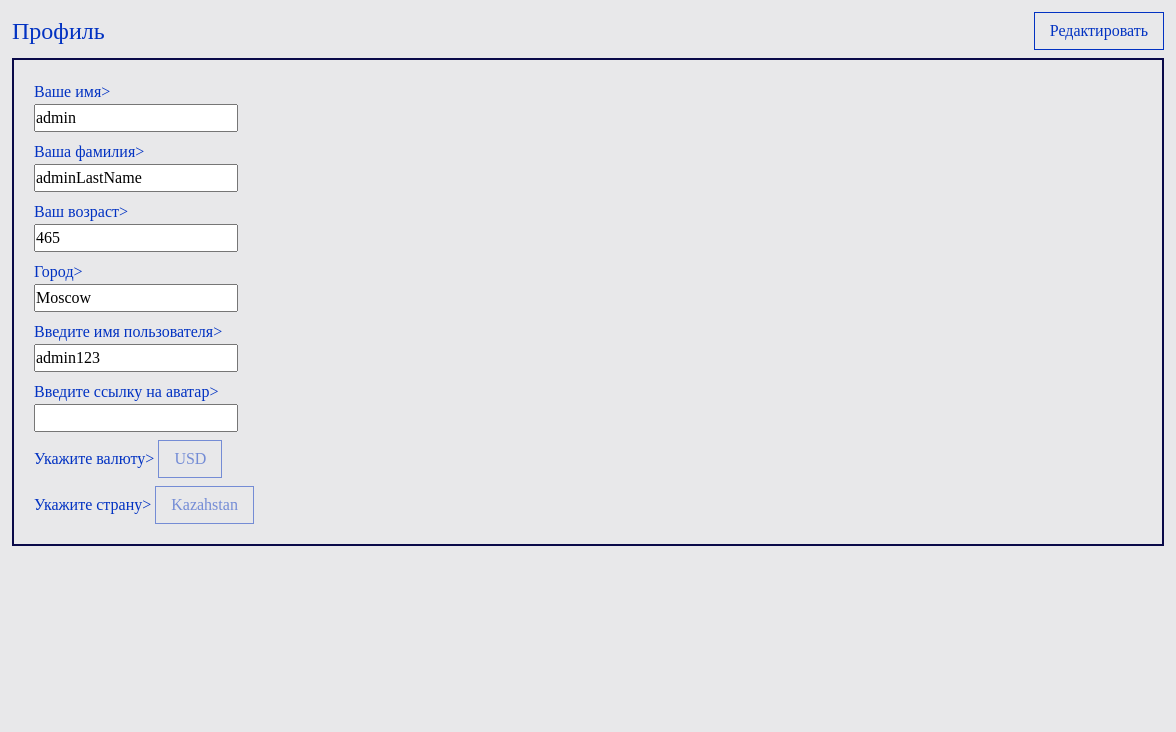
features/EditableProfileCard › При отмене значения должны обнулятся
Click the button with test id "EditableProfileCardHeader.EditButton": (1099, 31) [1034, 12, 1164, 50]
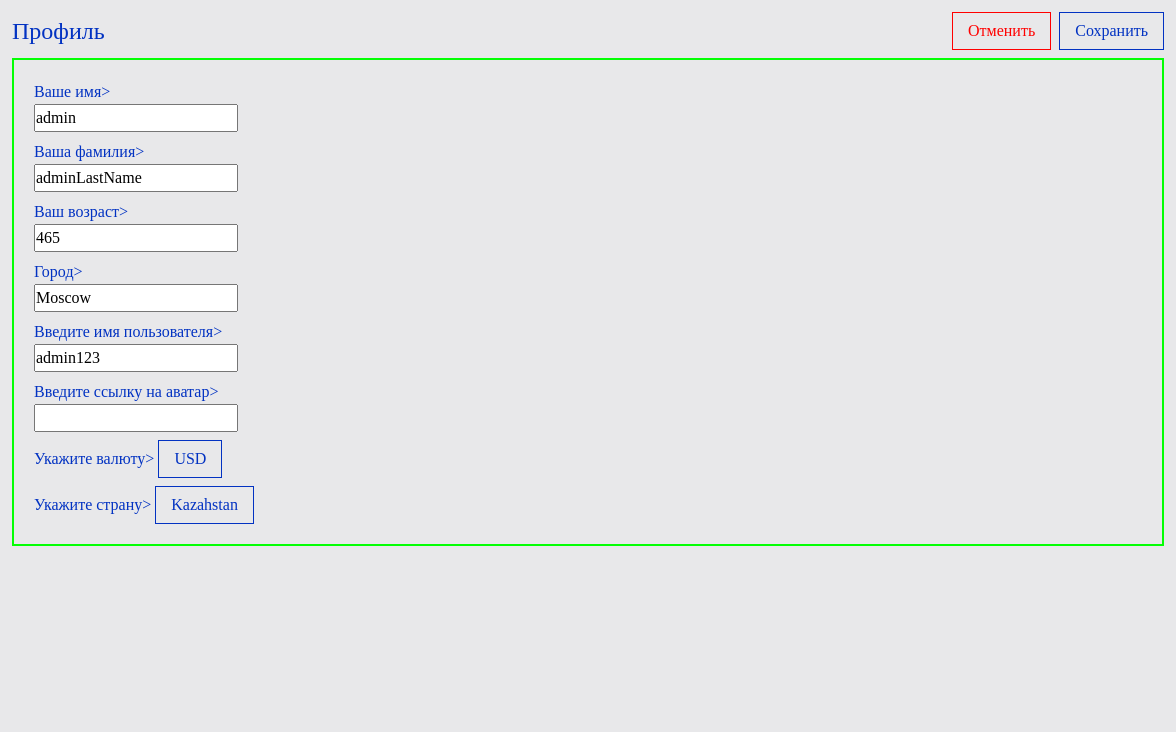
# очищаем поле
Clear the field with test id "ProfileCard.firstName": (136, 118) [34, 104, 238, 132]
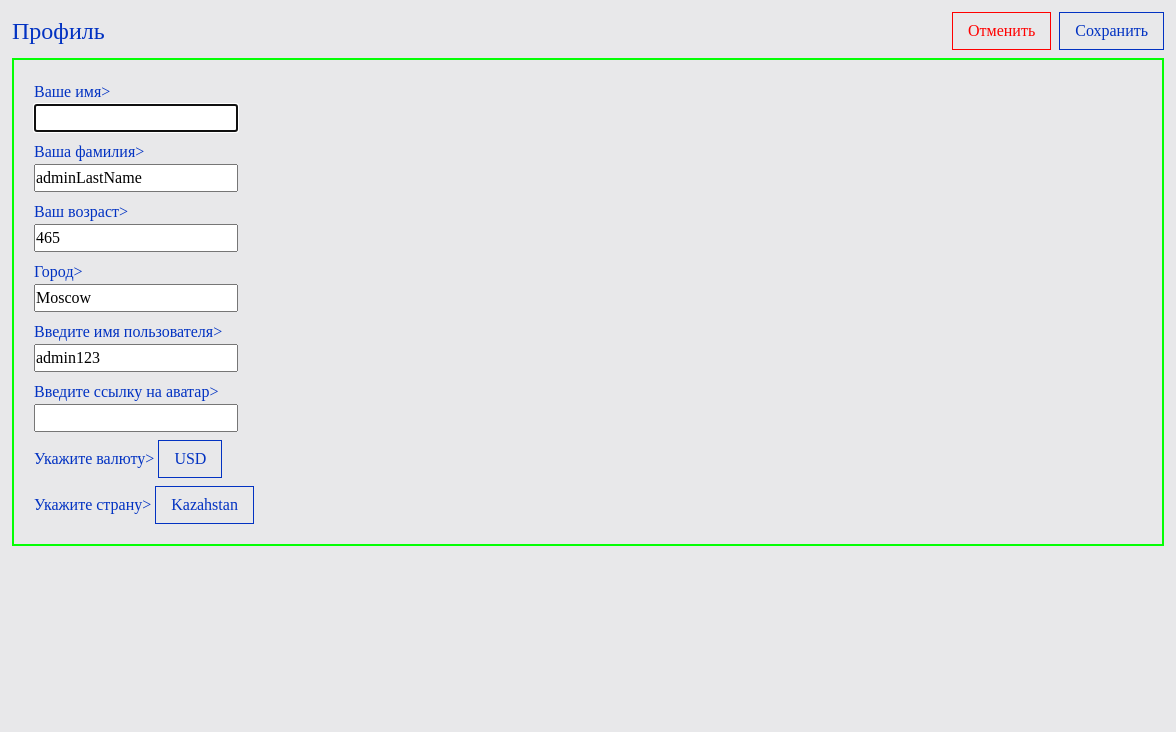
# записываем в поле
In the field with test id "ProfileCard.firstName": (136, 118) [34, 104, 238, 132], type "user"
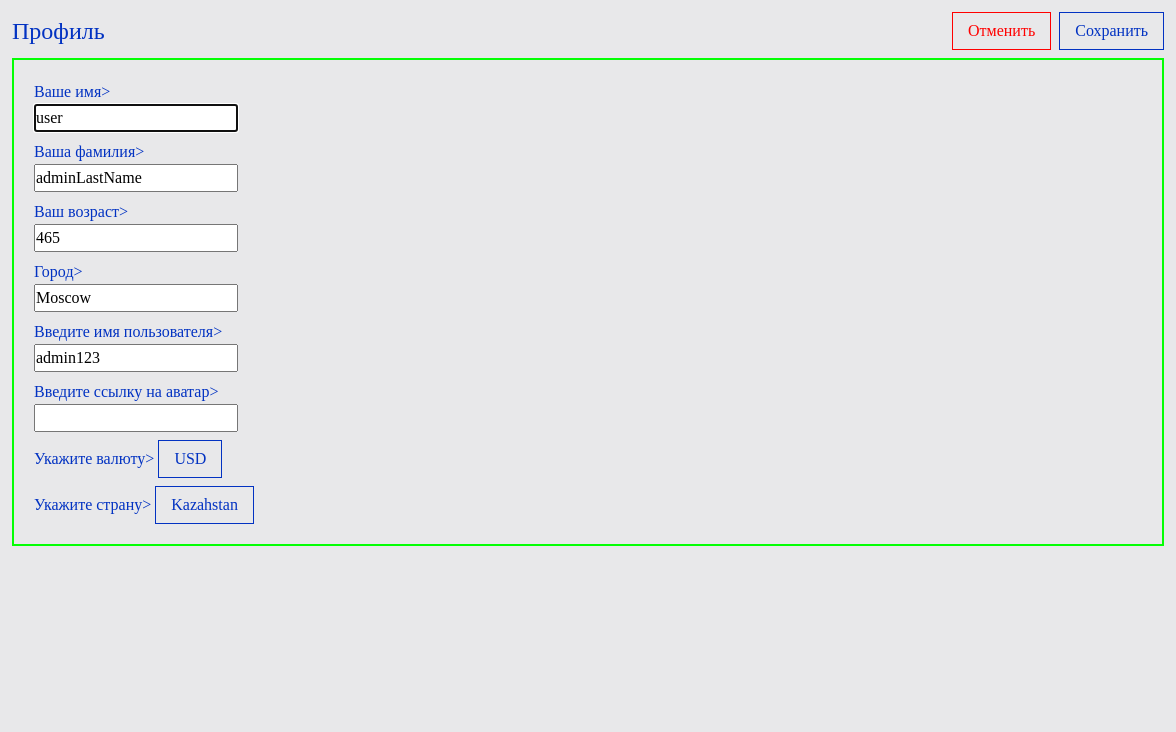
# кликаем Отменить
Click the button with test id "EditableProfileCardHeader.CancelButton": (1002, 31) [952, 12, 1051, 50]
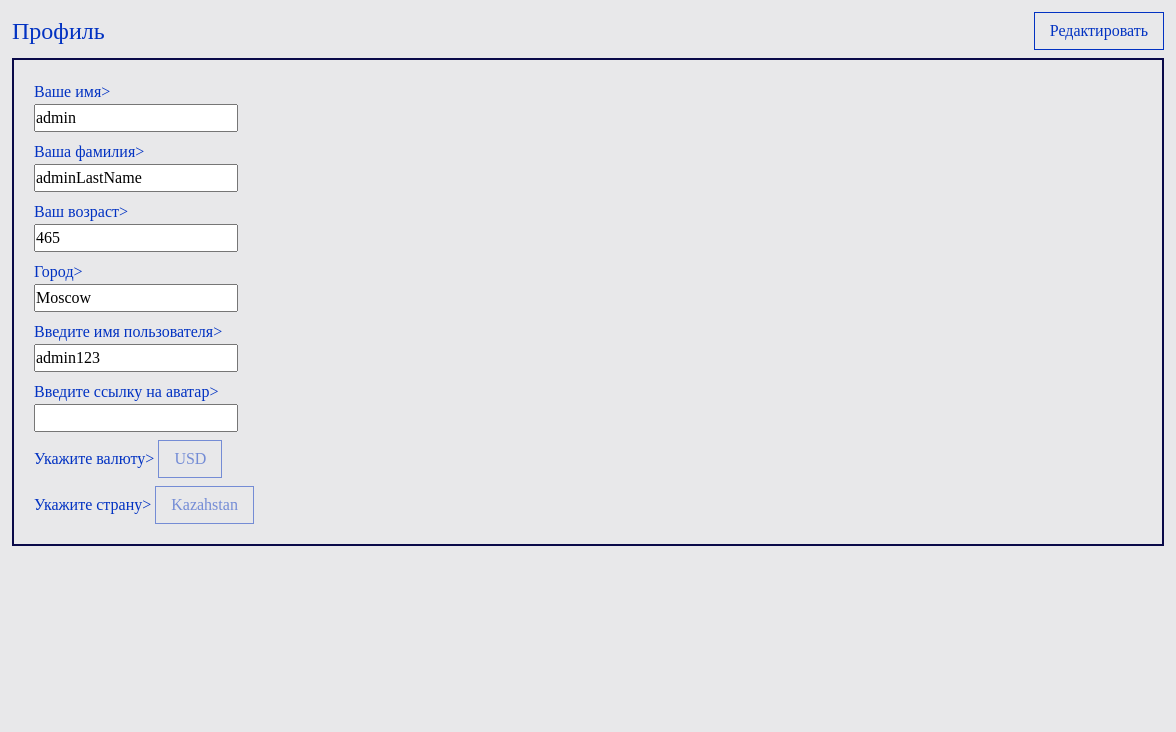
expect the field with test id "ProfileCard.firstName" holds "admin": met, box [34, 104, 238, 132]
